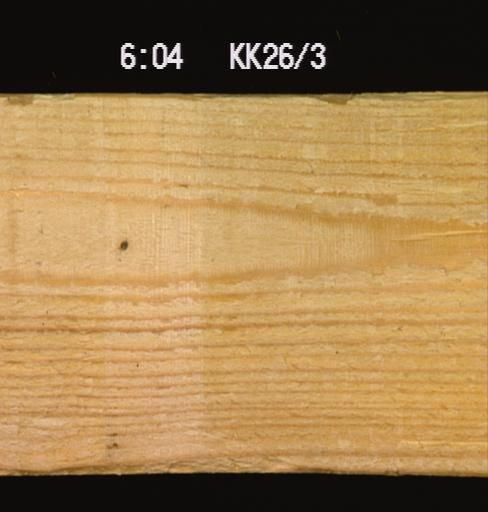small_knot: (113, 234, 132, 254)
wave: (34, 443, 319, 475), (0, 92, 76, 109), (300, 92, 364, 110)
